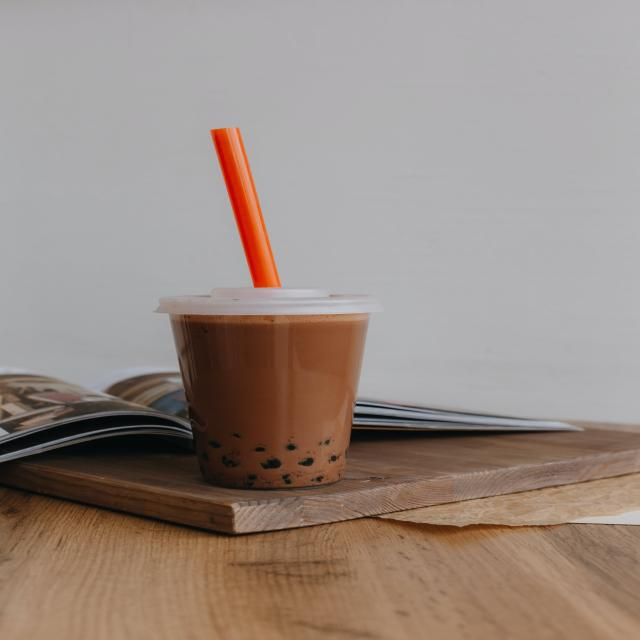cup: (158, 283, 395, 491)
